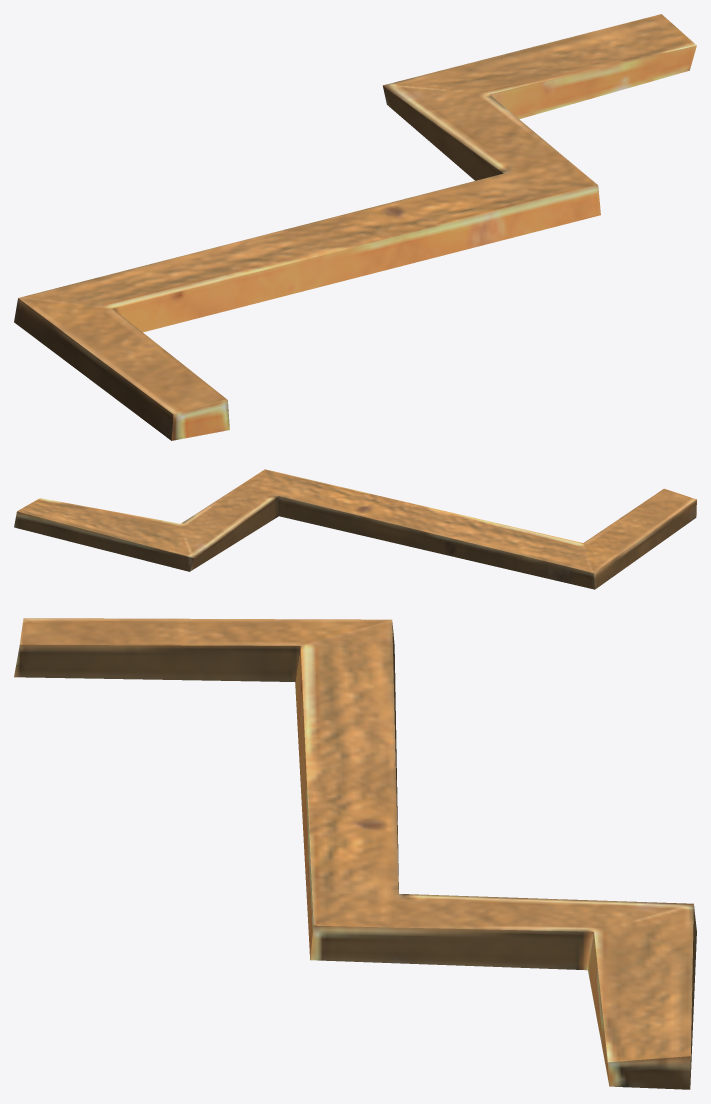
Rendered from Slab_zigzag_1.fbx.
3 renders of one model, top to bottom at view 1: azimuth 30°, elevation 25°; view 2: azimuth 150°, elevation 25°; view 3: azimuth 270°, elevation 25°, orthographic. The views are drawn at different scales.
Parts seen in each view (by area): view 1: fundament_1; view 2: fundament_1; view 3: fundament_1.
Part boxes in pixels (left/top/right/bottom): fundament_1: left=14, top=14, right=696, bottom=440; fundament_1: left=14, top=469, right=696, bottom=589; fundament_1: left=14, top=618, right=696, bottom=1089.
Bounding box in the file's own units: 5.05 × 0.2008 × 3.29.
